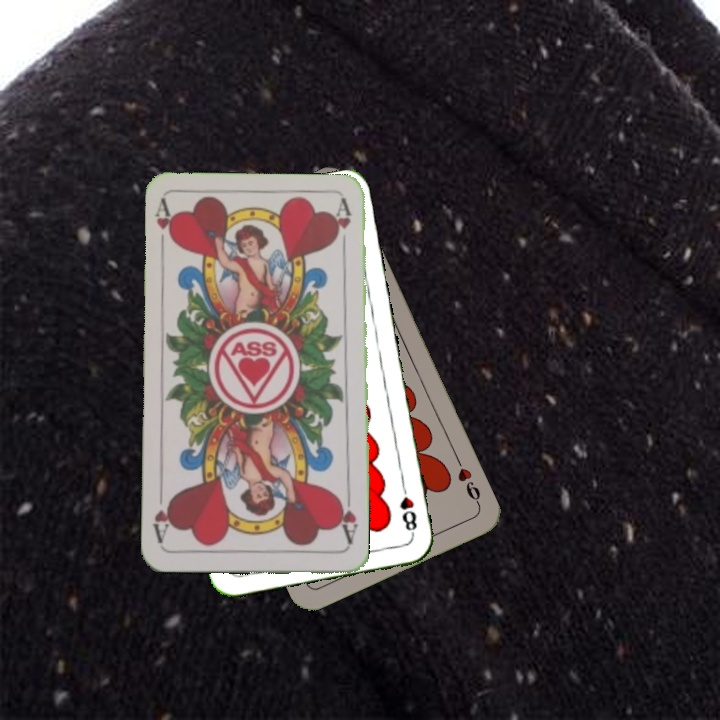H8: (396, 479, 420, 538)
H9: (451, 452, 483, 508)
HA: (152, 197, 179, 256), (334, 489, 361, 547)
